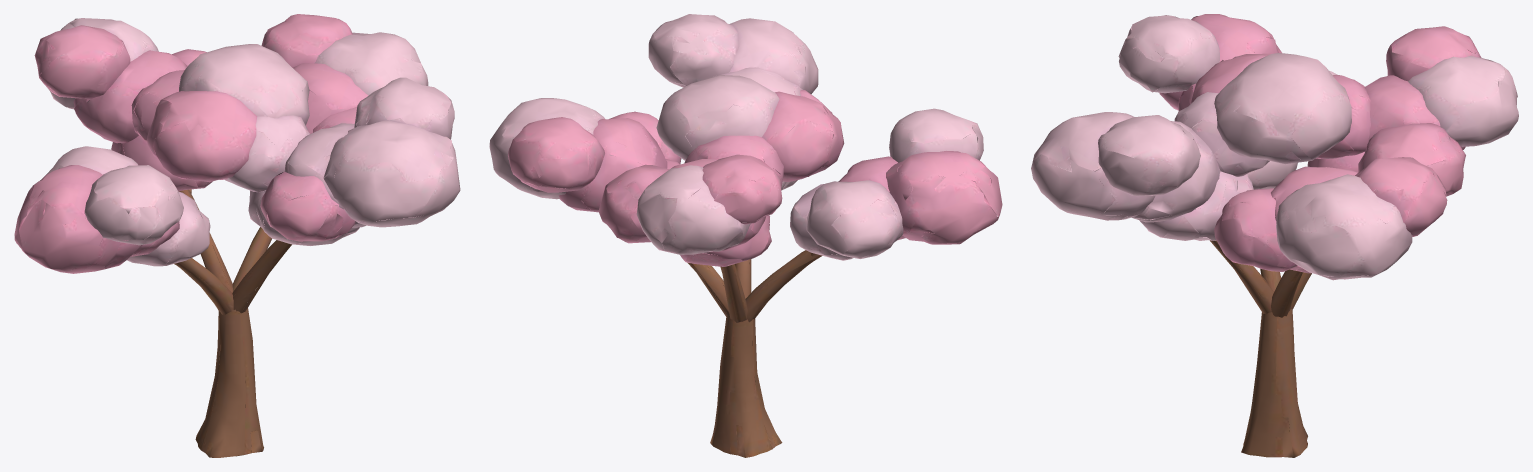
Rendered from cherry-blossom-tree.glb.
The picture shows the model from 3 angles, left to right: view 1: azimuth 30°, elevation 25°; view 2: azimuth 150°, elevation 25°; view 3: azimuth 270°, elevation 25°; orthographic projection. The views are drawn at different scales.
Parts seen in each view (by area): view 1: cherry-blossom-tree_body; view 2: cherry-blossom-tree_body; view 3: cherry-blossom-tree_body.
Part boxes in pixels (bbox=[...]): cherry-blossom-tree_body: bbox=[14, 14, 460, 457]; cherry-blossom-tree_body: bbox=[489, 14, 1002, 457]; cherry-blossom-tree_body: bbox=[1031, 14, 1518, 457].
Size of the model in its own units: 5.46 by 4.31 by 4.91.
1 material, 1 textured.
